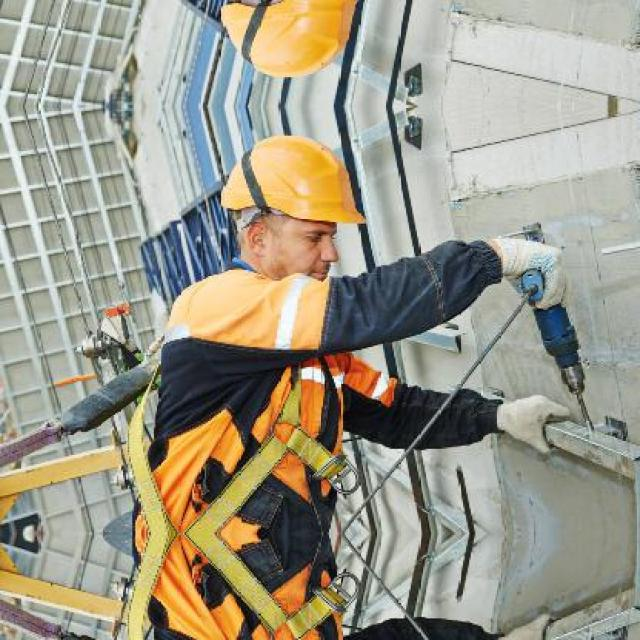helmet: (215, 120, 372, 298), (215, 0, 374, 93)
